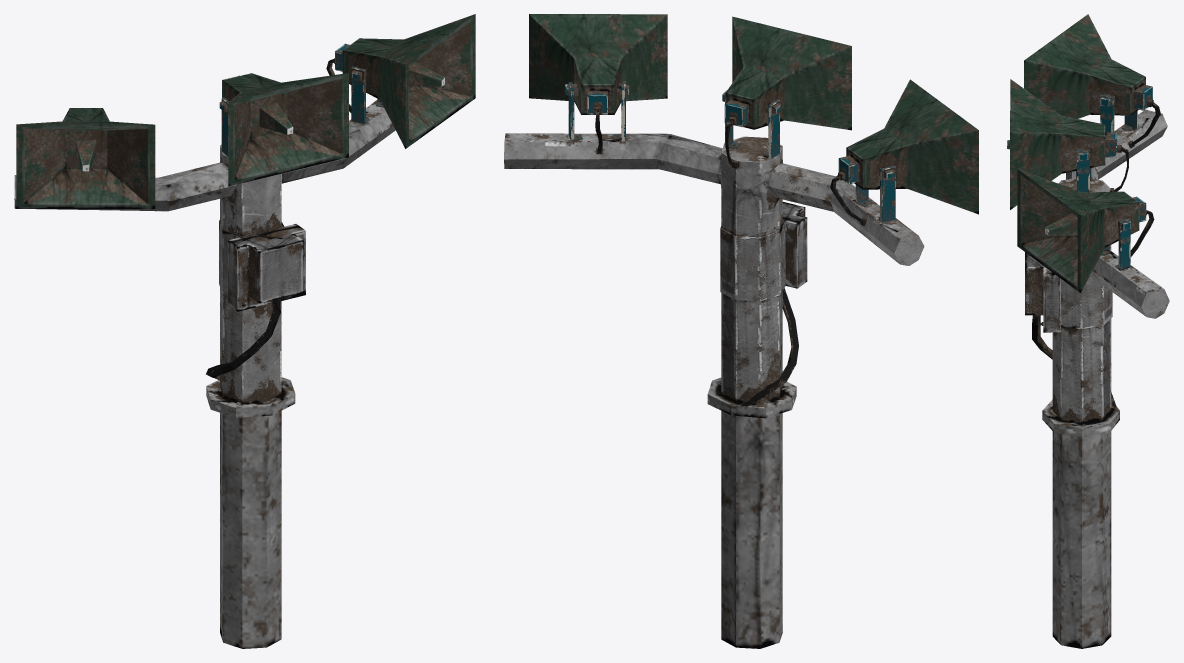
The picture shows the model from 3 angles, left to right: view 1: azimuth 30°, elevation 25°; view 2: azimuth 150°, elevation 25°; view 3: azimuth 270°, elevation 25°; orthographic projection. The views are drawn at different scales.
Visible parts, largest first — view 1: pipe, loud1, loud2, loud3; view 2: pipe, loud3, loud2, loud1; view 3: pipe, loud3, loud1, loud2.
Boxes of the visible parts, x1=… form: pipe: x1=14, y1=100, x2=395, y2=648; loud1: x1=16, y1=108, x2=155, y2=208; loud2: x1=219, y1=73, x2=348, y2=186; loud3: x1=326, y1=14, x2=475, y2=148; pipe: x1=504, y1=133, x2=924, y2=648; loud3: x1=529, y1=14, x2=667, y2=154; loud2: x1=722, y1=16, x2=851, y2=168; loud1: x1=830, y1=79, x2=978, y2=226; pipe: x1=1025, y1=109, x2=1169, y2=648; loud3: x1=1017, y1=169, x2=1154, y2=292; loud1: x1=1024, y1=14, x2=1160, y2=148; loud2: x1=1007, y1=79, x2=1128, y2=209.
Size of the model in its own units: 120 by 145 by 40.38.
1 material, 1 textured.
